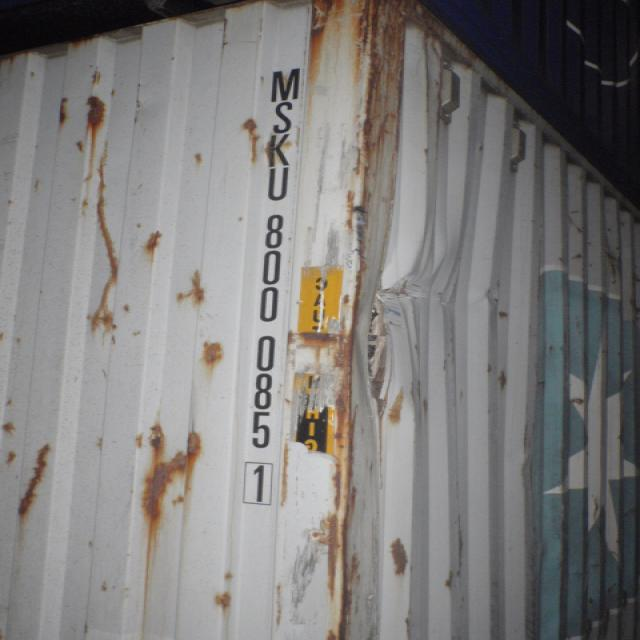dent: (362, 213, 465, 429)
